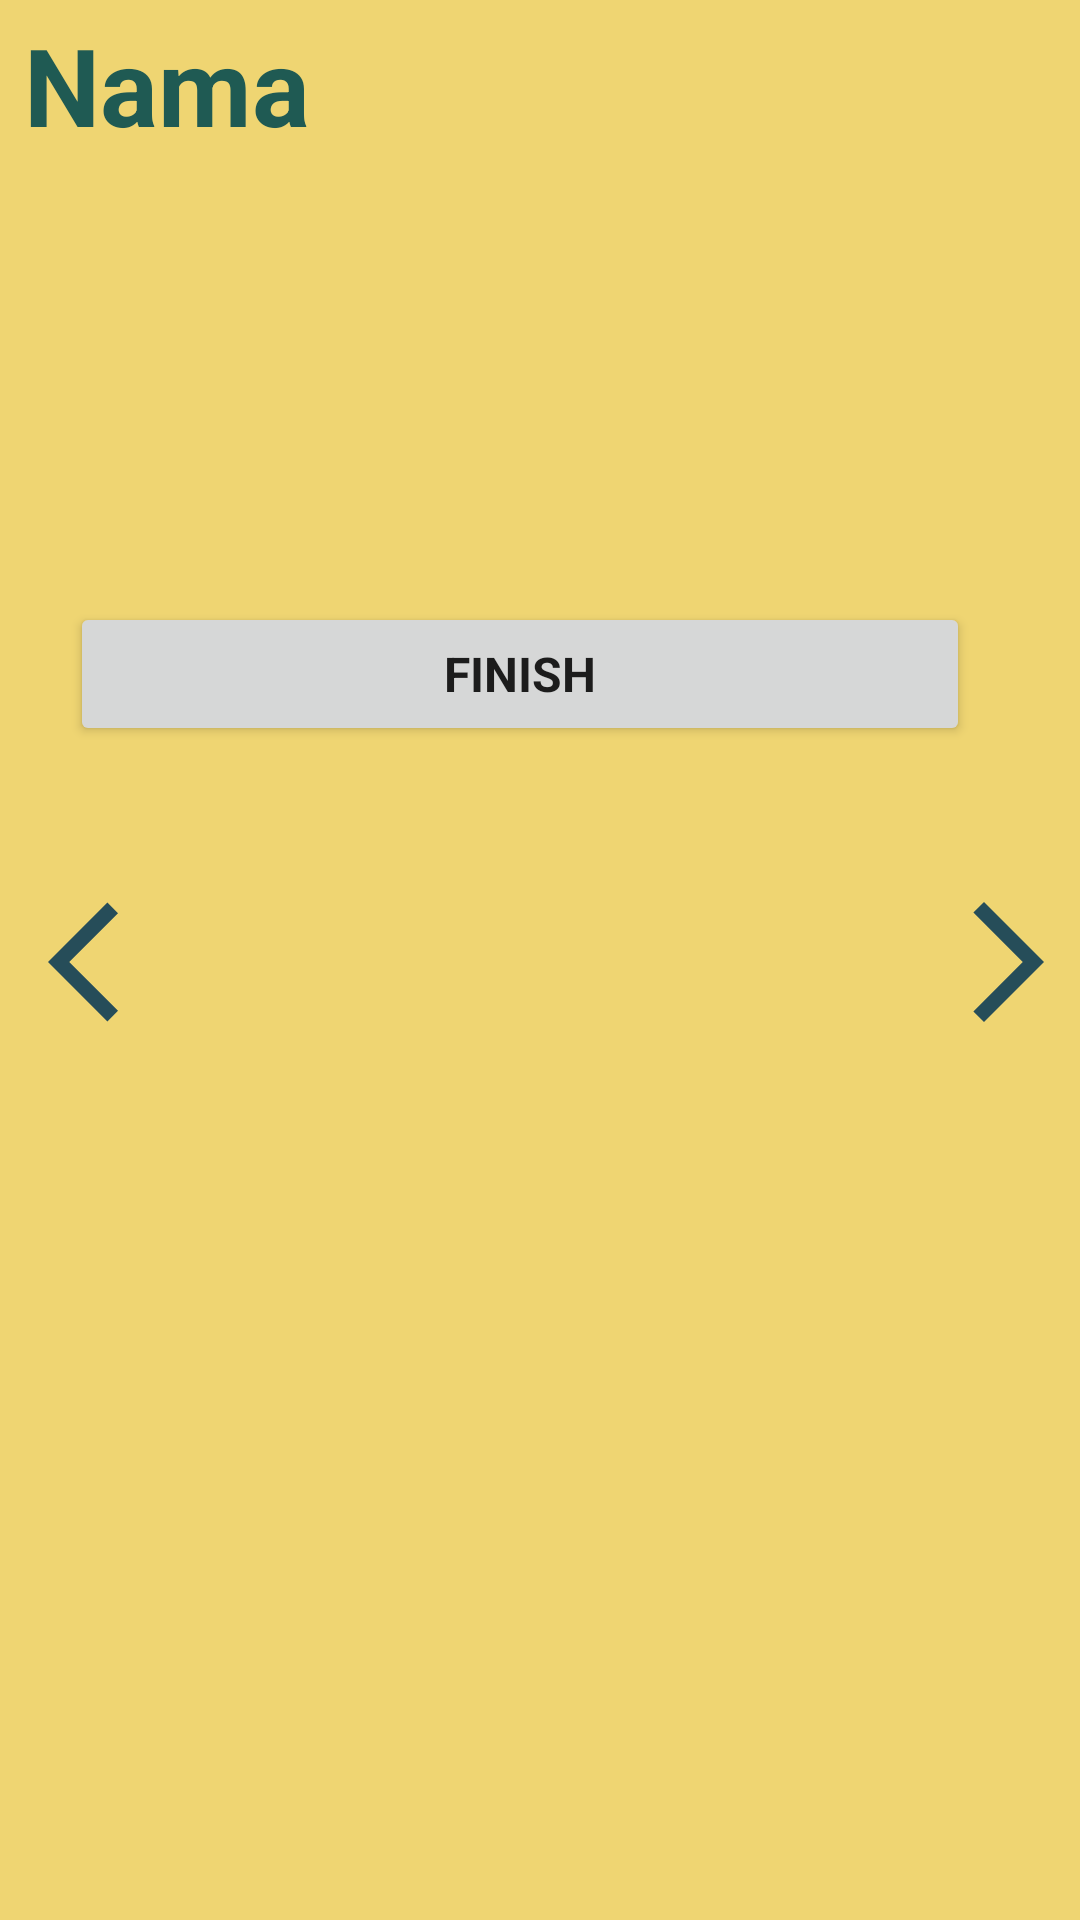

Icons on this 1080 x 1920 Android screen, each with the point to tap as (x,y):
arrow back: (83,962)
arrow forward: (1008,962)
